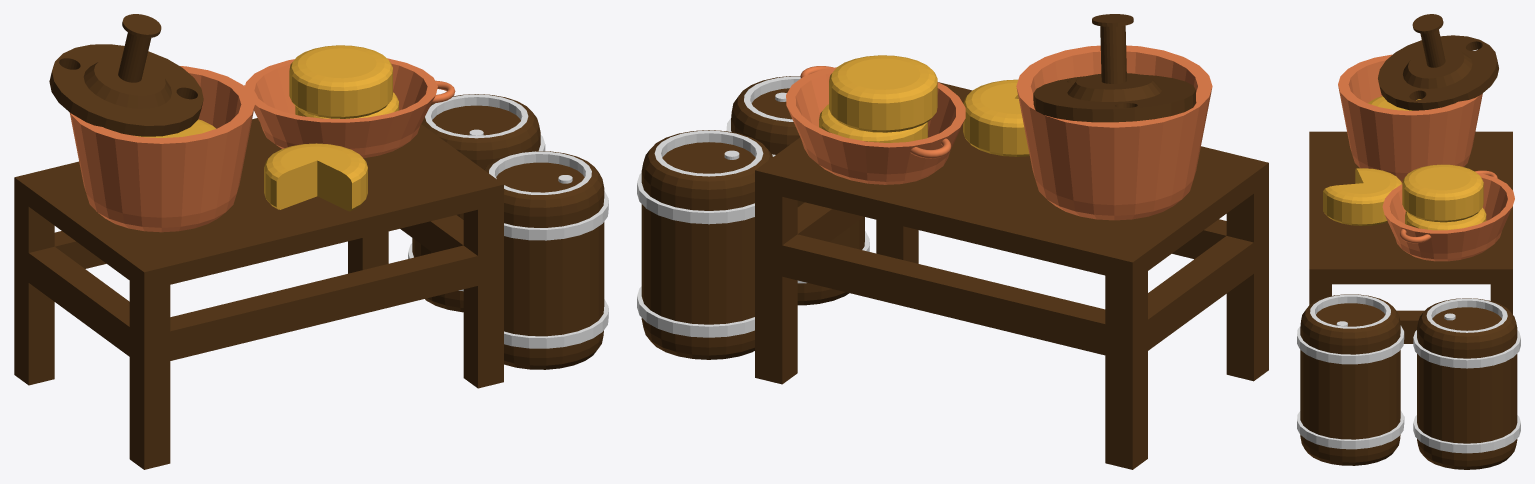
The model's file is cheeser.fbx.
3 views of the same model, side by side, from view 1: azimuth 30°, elevation 25°; view 2: azimuth 150°, elevation 25°; view 3: azimuth 270°, elevation 25° (orthographic). The views are drawn at different scales.
Visible parts, largest first — view 1: table, barrel, barrel_cheese, cap, plate, barrel.001, cheese.001, cheese; view 2: table, barrel.001, barrel_cheese, plate, cap, cheese.001, barrel, cheese, cheese.002; view 3: barrel.001, barrel, table, barrel_cheese, cap, plate, cheese.001, cheese, cheese.002, cheese.003.
Part boxes in pixels (<box>): table: <box>14,118,503,469</box>; barrel: <box>484,151,608,369</box>; barrel_cheese: <box>69,66,254,232</box>; cap: <box>49,14,203,136</box>; plate: <box>243,58,455,158</box>; barrel.001: <box>408,94,545,312</box>; cheese.001: <box>289,45,392,118</box>; cheese: <box>264,143,367,211</box>; table: <box>755,82,1268,469</box>; barrel.001: <box>637,130,772,359</box>; barrel_cheese: <box>1016,45,1212,220</box>; plate: <box>786,66,965,184</box>; cap: <box>1033,14,1196,122</box>; cheese.001: <box>829,55,937,132</box>; barrel: <box>726,76,869,305</box>; cheese: <box>963,79,1029,156</box>; cheese.002: <box>819,104,927,142</box>; barrel.001: <box>1413,298,1520,469</box>; barrel: <box>1297,294,1404,465</box>; table: <box>1309,131,1512,343</box>; barrel_cheese: <box>1338,54,1482,182</box>; cap: <box>1378,14,1498,110</box>; plate: <box>1382,170,1514,261</box>; cheese.001: <box>1402,164,1483,222</box>; cheese: <box>1323,168,1402,225</box>; cheese.002: <box>1405,207,1486,230</box>; cheese.003: <box>1368,96,1420,110</box>.
Bounding box in the file's own units: 1101 × 800 × 550.
